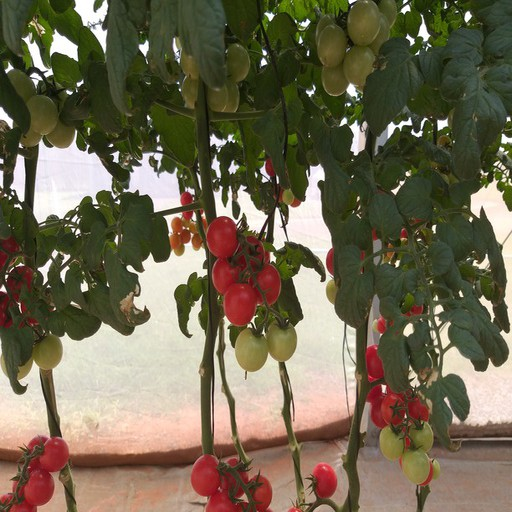green tomato bunch: (314, 1, 399, 104), (2, 67, 77, 149), (183, 41, 252, 113)
mixed tomato bunch: (1, 240, 63, 382), (157, 190, 209, 256), (265, 151, 305, 208)
red tomato bunch: (204, 214, 280, 325), (362, 345, 429, 430), (1, 430, 70, 509), (192, 454, 274, 512), (376, 295, 424, 337)
